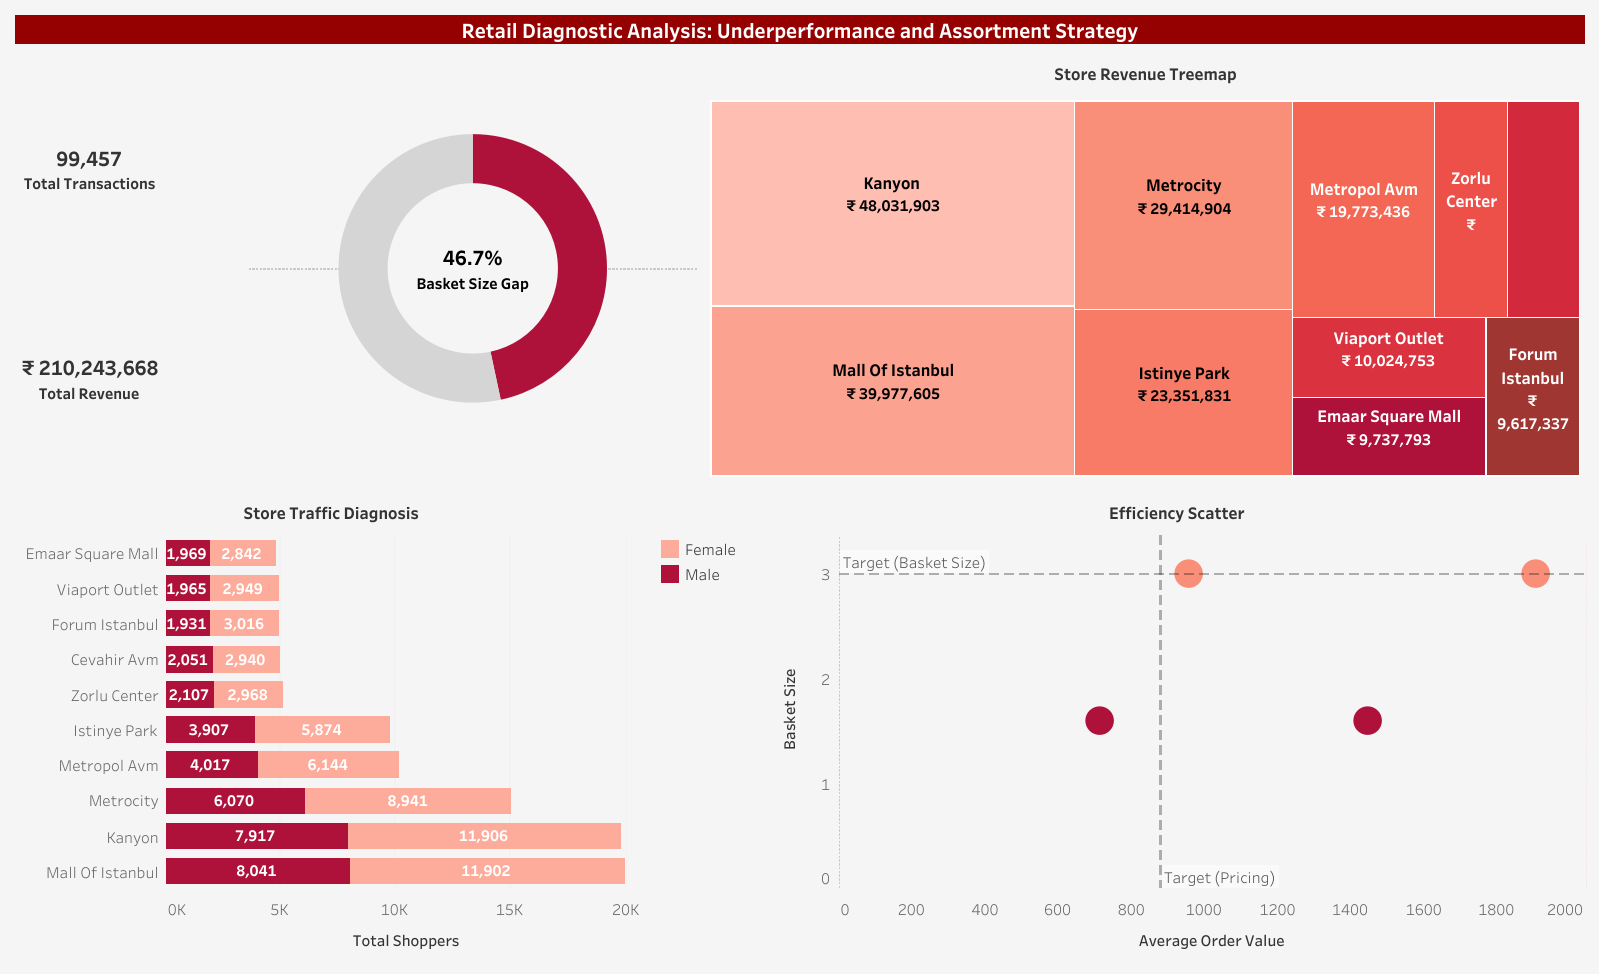

The page's visual inventory and layout, read from the dashboard file:
{"tool":"tableau","page":{"name":"Retail Diagnostic Analysis","canvas":[1280,780],"ordinal":1},"visuals":[{"type":"title","box":[8,8,1264,35]},{"type":"worksheet","title":"KPI - Total Transactions","mark":"Automatic","box":[8,43,187,174]},{"type":"worksheet","title":"KPI - Basket Size Gap Gauge","mark":"Pie","rows":["Calculation_1777514487402246147","Calculation_1777514487402246147"],"box":[195,43,366,347]},{"type":"worksheet","title":"Store Revenue Treemap","mark":"Square","box":[561,43,711,347]},{"type":"worksheet","title":"KPI - Total Revenue","mark":"Automatic","box":[8,217,187,173]},{"type":"worksheet","title":"Store Traffic Diagnosis","mark":"Automatic","rows":["Store"],"cols":["Total Shoppers"],"box":[8,390,514,382]},{"type":"blank","box":[522,390,89,35]},{"type":"worksheet","title":"Efficiency Scatter","mark":"Circle","rows":["F5"],"cols":["F6"],"box":[611,390,661,382]},{"type":"legend","title":"Store Traffic Diagnosis","param":"[federated.1mhj74t099kw471bz4dvk0m42zxg].[none:Gender:nk]","box":[522,425,89,92]}]}

Visuals, with their boxes in screenshot pixels (x1, y1, x2, y2), scaled from the page's 1280x780 canvas onto the 1599x974 screenshot:
title: <bbox>10, 10, 1589, 54</bbox>
"KPI - Total Transactions" worksheet: <bbox>10, 54, 244, 271</bbox>
"KPI - Basket Size Gap Gauge" worksheet (Pie marks): <bbox>244, 54, 701, 487</bbox>
"Store Revenue Treemap" worksheet (Square marks): <bbox>701, 54, 1589, 487</bbox>
"KPI - Total Revenue" worksheet: <bbox>10, 271, 244, 487</bbox>
"Store Traffic Diagnosis" worksheet: <bbox>10, 487, 652, 964</bbox>
blank: <bbox>652, 487, 763, 531</bbox>
"Efficiency Scatter" worksheet (Circle marks): <bbox>763, 487, 1589, 964</bbox>
"Store Traffic Diagnosis" legend: <bbox>652, 531, 763, 646</bbox>
